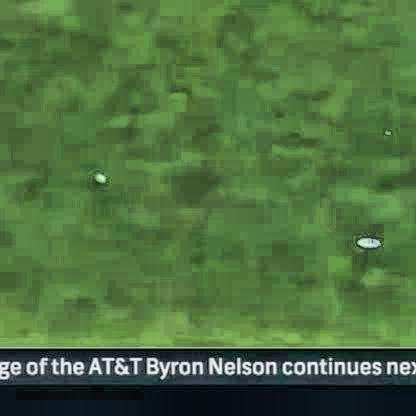golfball: (92, 170, 105, 183)
